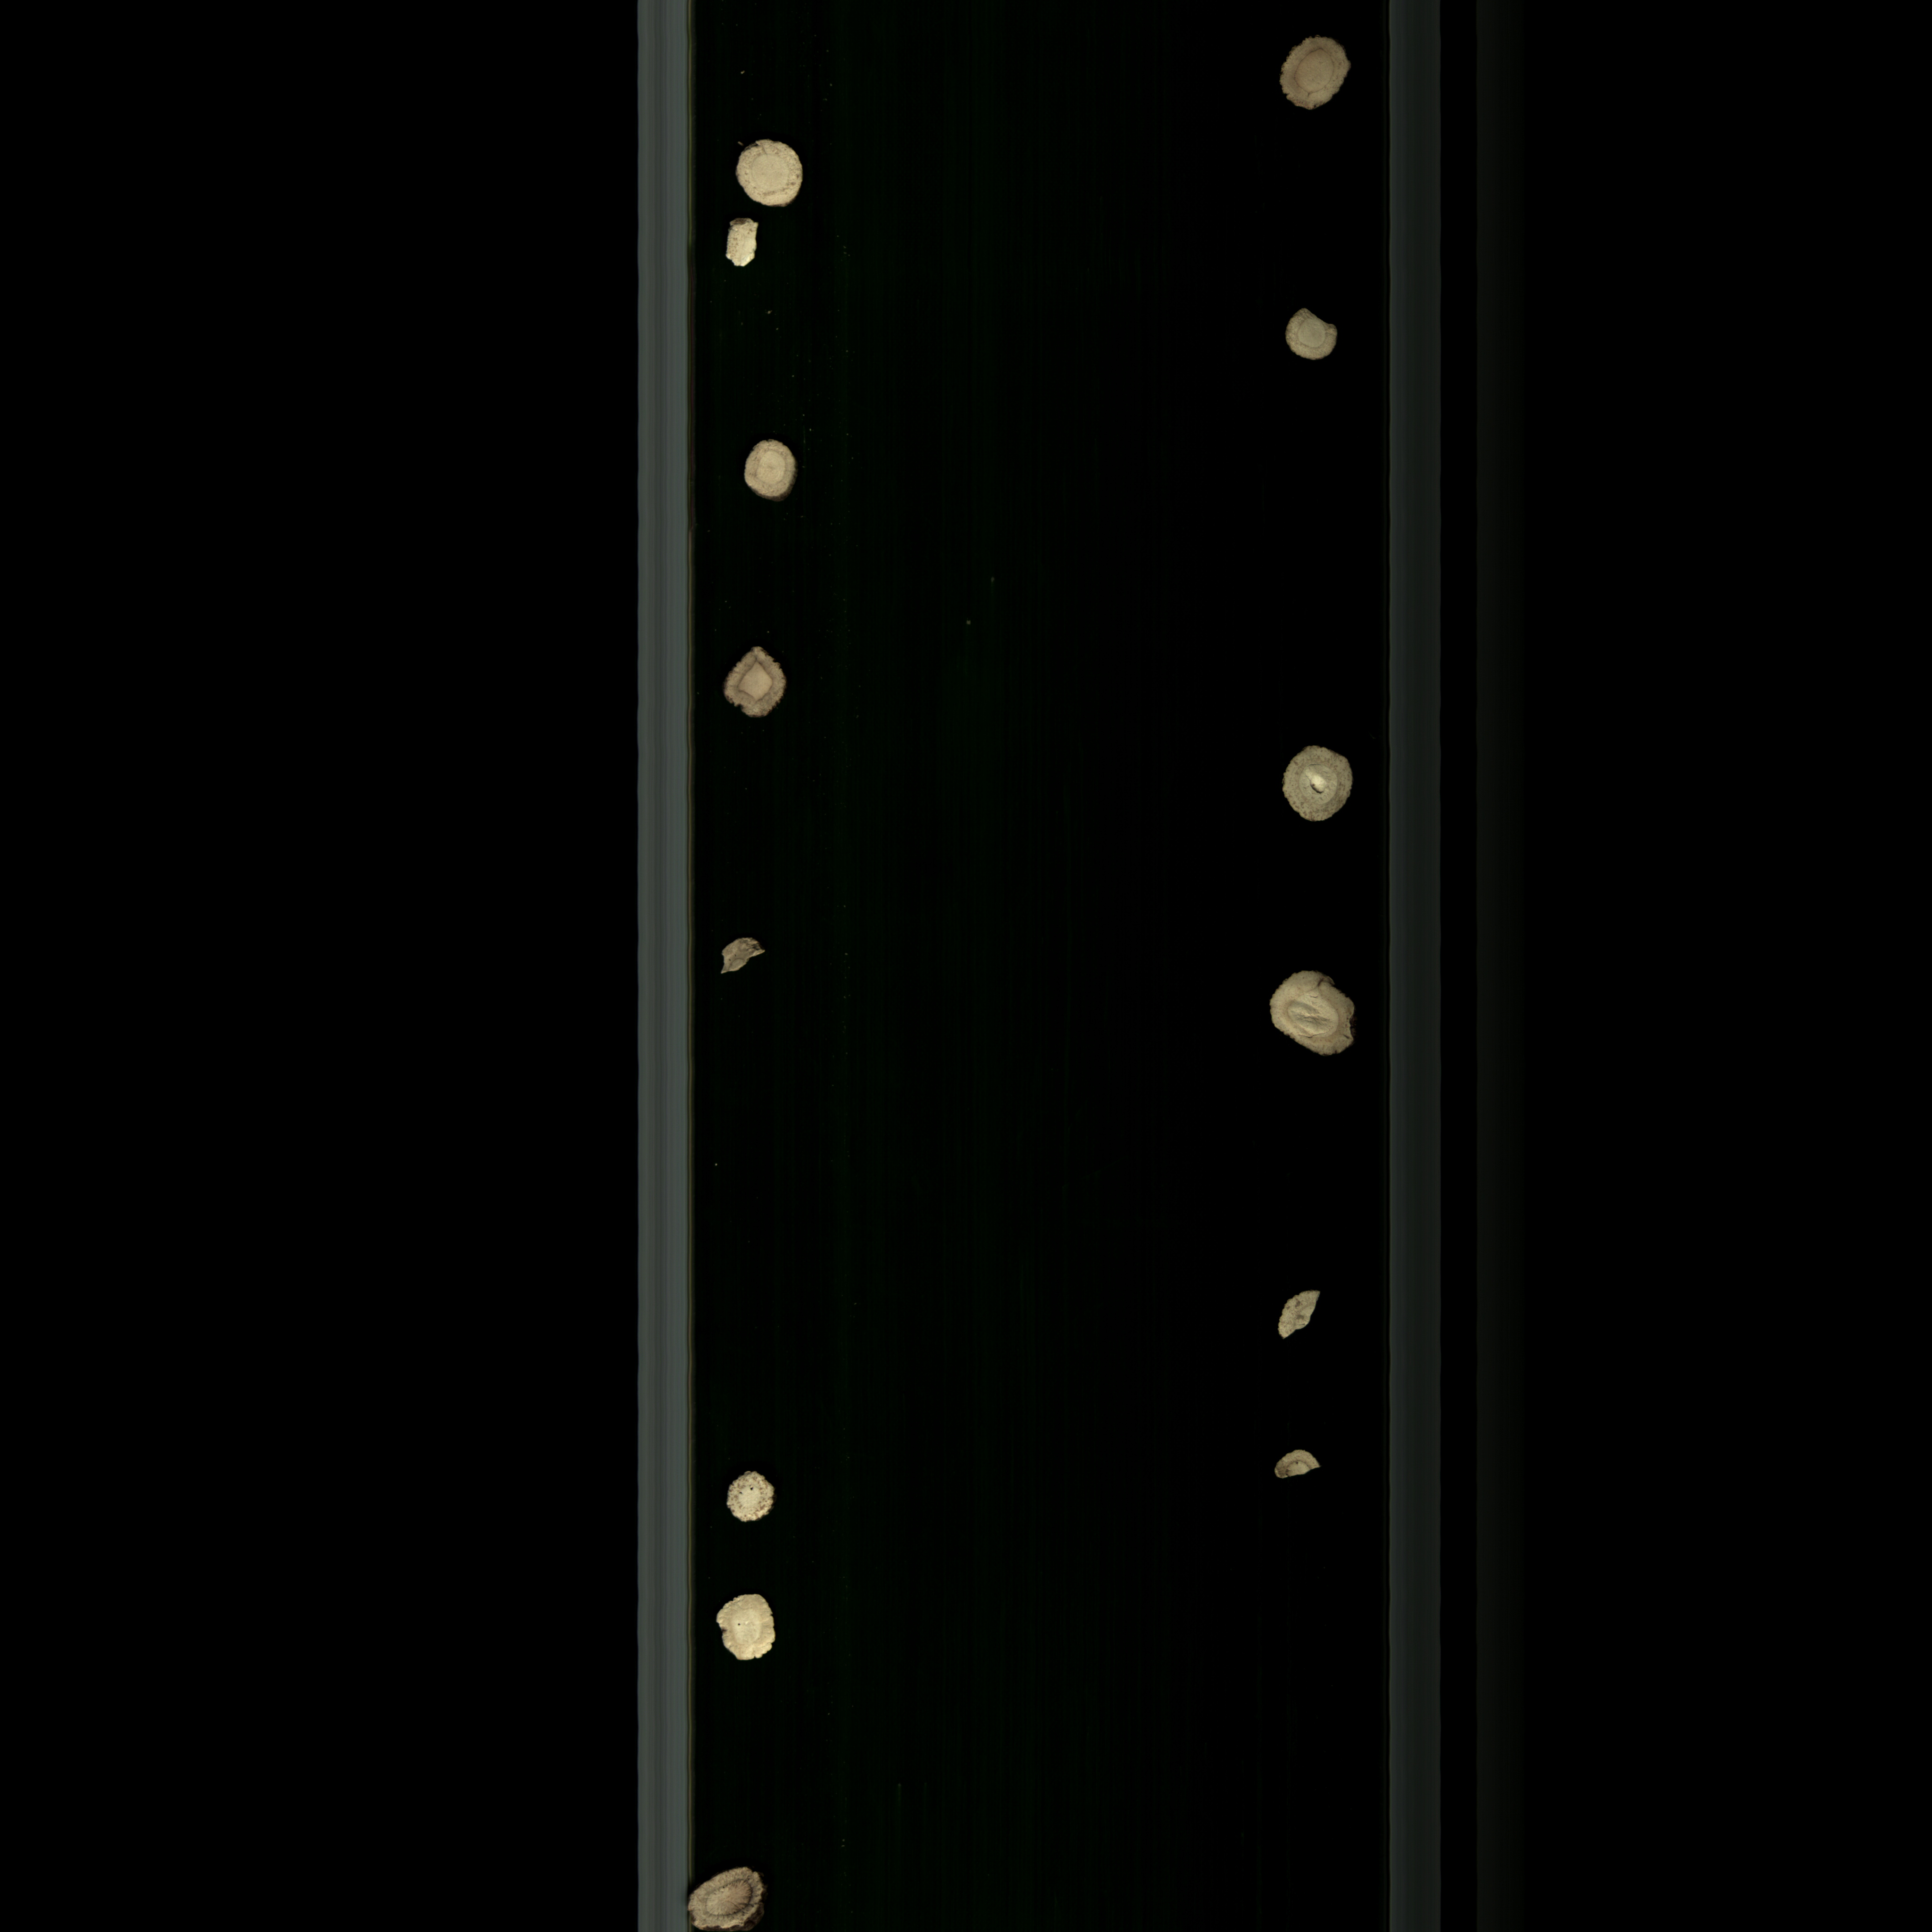debris: (1281, 301, 1352, 372)
distortion: (1249, 964, 1380, 1070), (704, 1589, 786, 1677), (717, 207, 777, 287), (713, 932, 773, 984)
dreg: (1272, 1279, 1325, 1348)
moldy: (1276, 30, 1362, 129), (1276, 740, 1366, 833), (718, 642, 803, 731), (679, 1867, 782, 1932), (718, 1468, 784, 1529), (1267, 1444, 1330, 1486)
